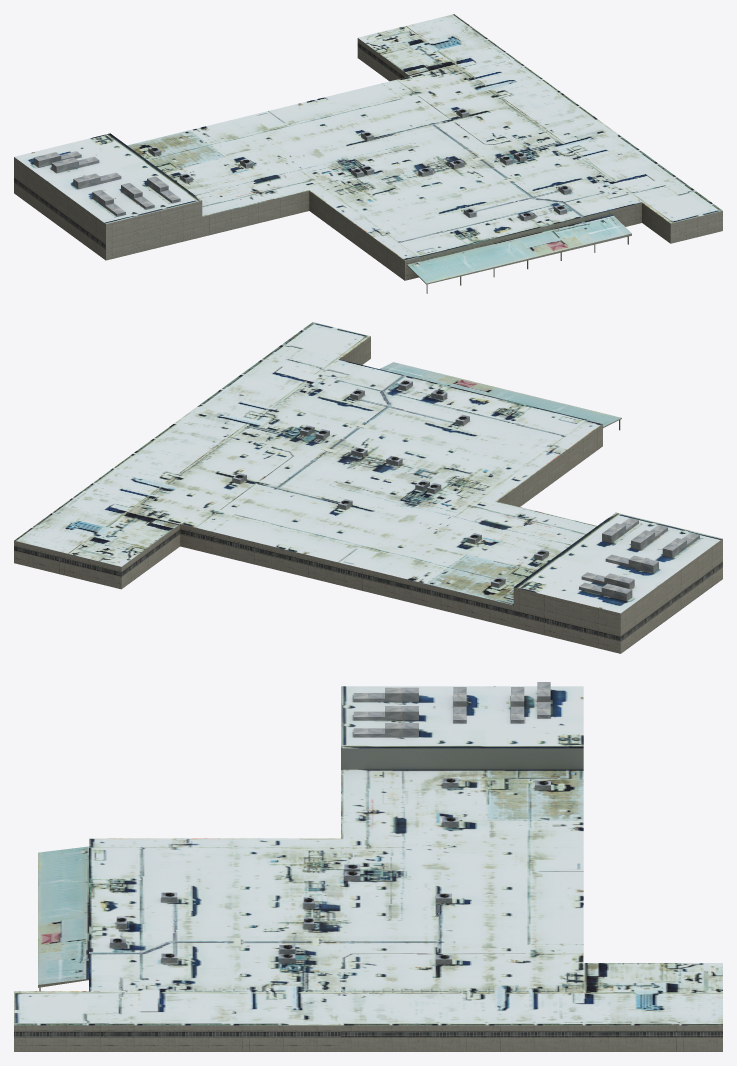
The model's file is Building5.gltf.
3 views of the same model, one above another, from view 1: azimuth 30°, elevation 25°; view 2: azimuth 150°, elevation 25°; view 3: azimuth 270°, elevation 25° (orthographic). The views are drawn at different scales.
Parts seen in each view (by area): view 1: Building5; view 2: Building5; view 3: Building5.
Part boxes in pixels (box(x1,y1,x2,y2)): Building5: box(14, 14, 722, 293); Building5: box(14, 322, 722, 653); Building5: box(14, 682, 722, 1051).
Size of the model in its own units: 191 by 16 by 180.
Materials: 1 (1 with a texture image).
